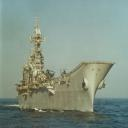Portanaves: (16, 14, 117, 115)
